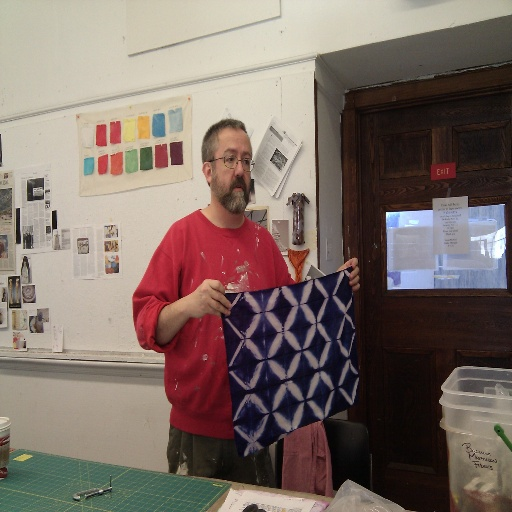hand: (181, 278, 233, 329), (335, 254, 362, 294)
